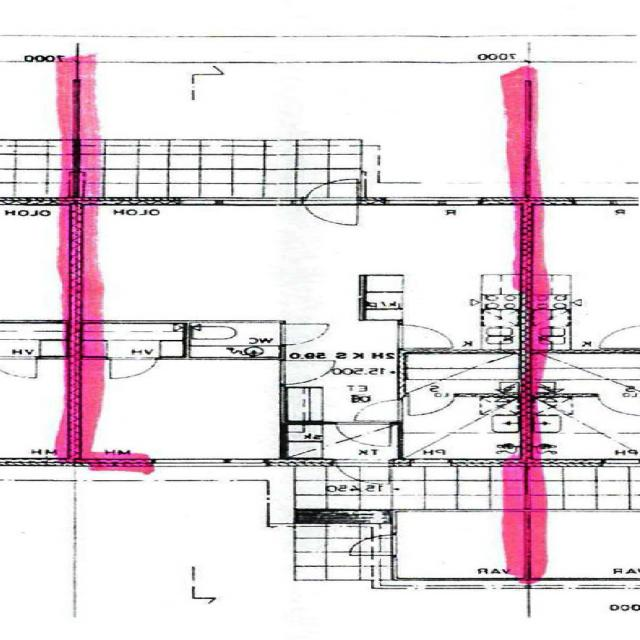door: (338, 458, 392, 491), (307, 173, 359, 205), (307, 197, 359, 228), (280, 360, 340, 384), (338, 421, 391, 448), (399, 325, 456, 348), (112, 357, 160, 381), (352, 399, 405, 420), (410, 393, 456, 417), (347, 534, 398, 555), (281, 324, 333, 344)
